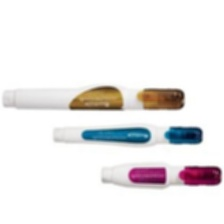correction_fluid: (0, 79, 187, 113), (51, 122, 204, 148), (99, 160, 222, 191)
